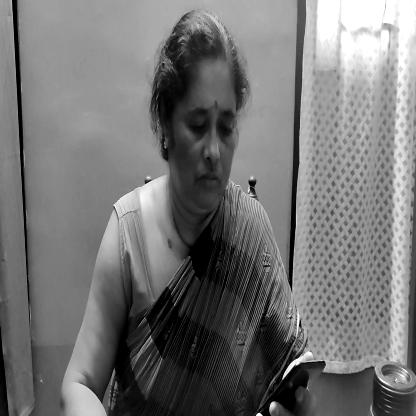Distracted: (153, 20, 248, 219)
